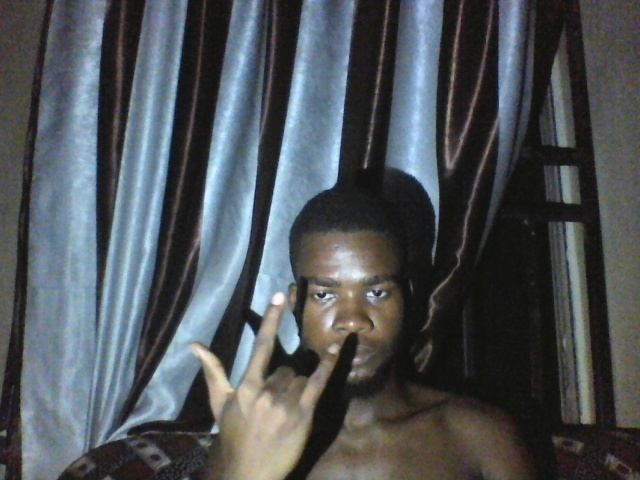i love you: (186, 288, 340, 480)
